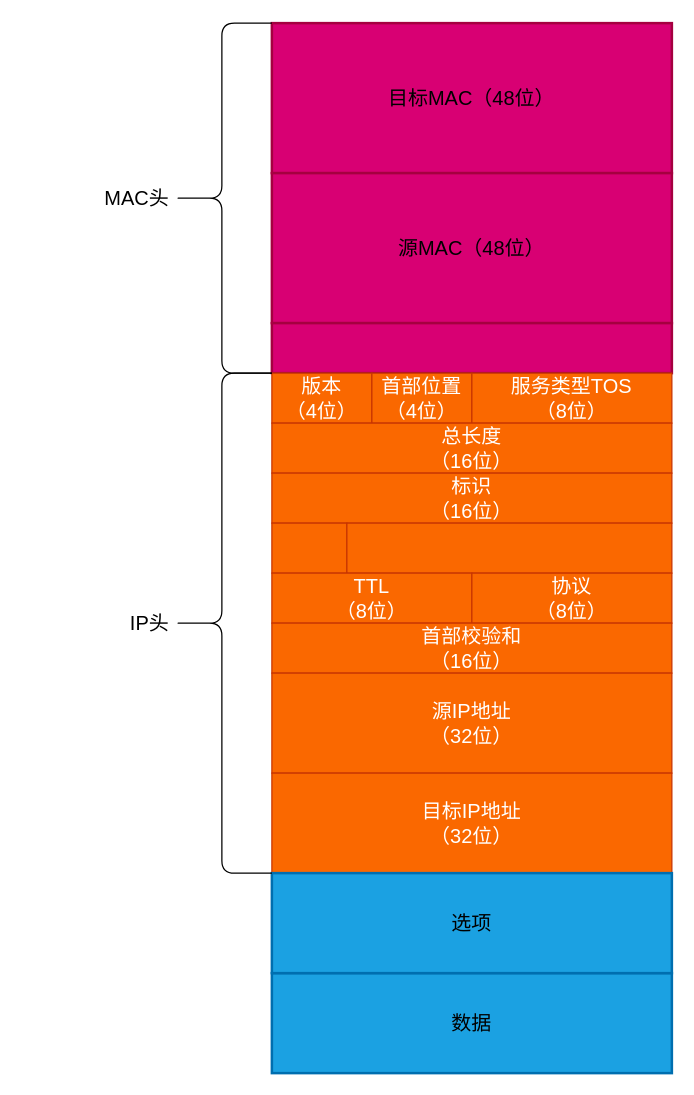
Image size: 694x1095. Some labels were removed from this diagram. The shapes that lost their labels are listed below. From the top down, each one's centre as x and y in pixels, then its label:
At [471,347]: "协议类型（16位）".
At [309,547]: "标志 （3位）".
At [509,547]: "片偏移 （13位）".
